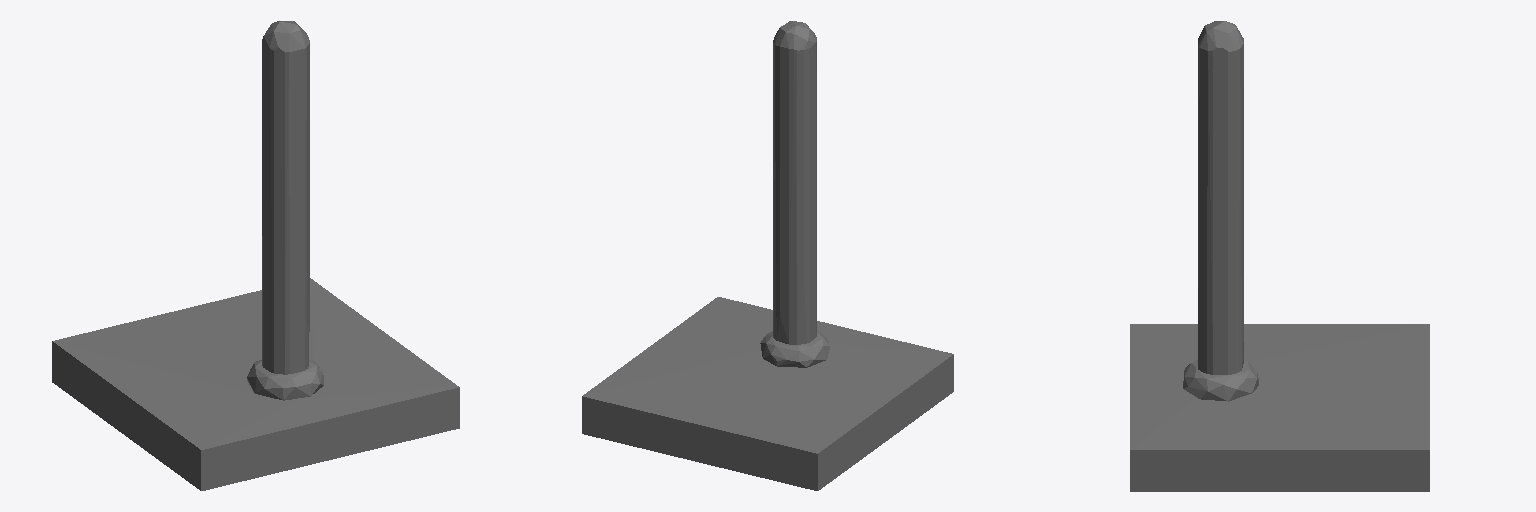
robot.urdf — base.urdf:
<?xml version='1.0' encoding='utf-8'?>
<robot name="base.urdf">
  <link name="baseLink">
    <contact>
      <lateral_friction value="0.5" />
      <rolling_friction value="0.0" />
      <contact_cfm value="0.0" />
      <contact_erp value="1.0" />
    </contact>
    <inertial>
      <origin rpy="0 0 0" xyz="1.4305214914542164e-06 -0.0032969978217127394 0.014393474039177474" />
       <mass value="0.0" />
       <inertia ixx="1e-3" ixy="0" ixz="0" iyy="1e-3" iyz="0" izz="1e-3" />
    </inertial>
    <visual>
      <origin rpy="0 0 0" xyz="0 0 0" />
      <geometry>
        <mesh filename="base.obj" scale="0.5 0.5 0.5" />
      </geometry>
       <material name="gray">
        <color rgba="0.5 0.5 0.5 1" />
      </material>
    </visual>
    <collision>
      <geometry>
        <mesh filename="base.obj" scale="0.5 0.5 0.5" />
      </geometry>
    </collision>
  </link>
</robot>

--- What the picture shows (computed from the rendered views, not written in the file) ---
The picture shows the robot from 3 angles, left to right: view 1: azimuth 30°, elevation 25°; view 2: azimuth 150°, elevation 25°; view 3: azimuth 270°, elevation 25°; orthographic projection.
Robot: base.urdf — 1 links, 0 joints (none); root link baseLink; default pose: every joint at zero.
Links seen in each view (by area): view 1: baseLink; view 2: baseLink; view 3: baseLink.
Link boxes in pixels (<box>): baseLink: <box>52,21,459,490</box>; baseLink: <box>582,21,953,490</box>; baseLink: <box>1130,21,1429,491</box>.
Bounding box of the posed robot: 0.0335 × 0.0335 × 0.0502 m (x, y, z).
1 mesh visuals loaded from 1 distinct referenced files (1 OBJ).